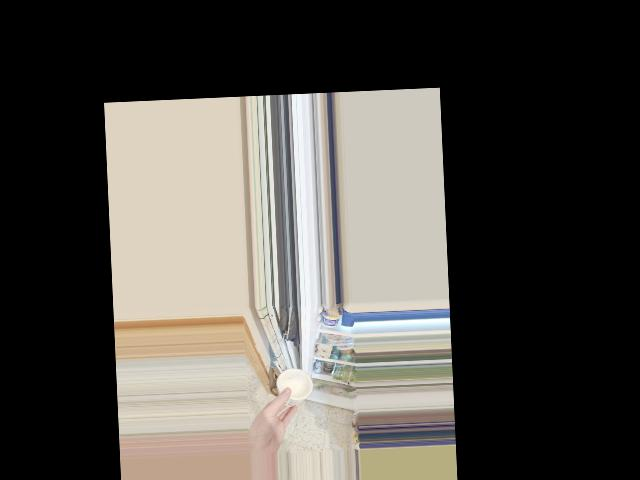cotage: (273, 365, 309, 410)
